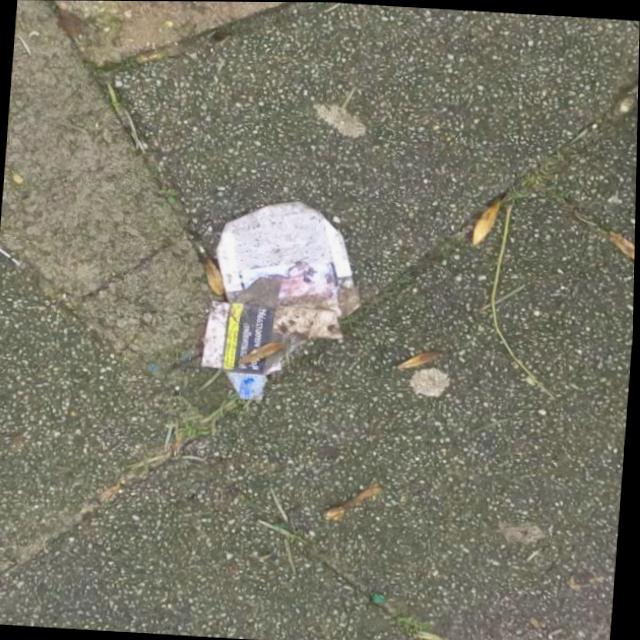Paper: (198, 195, 372, 407)
